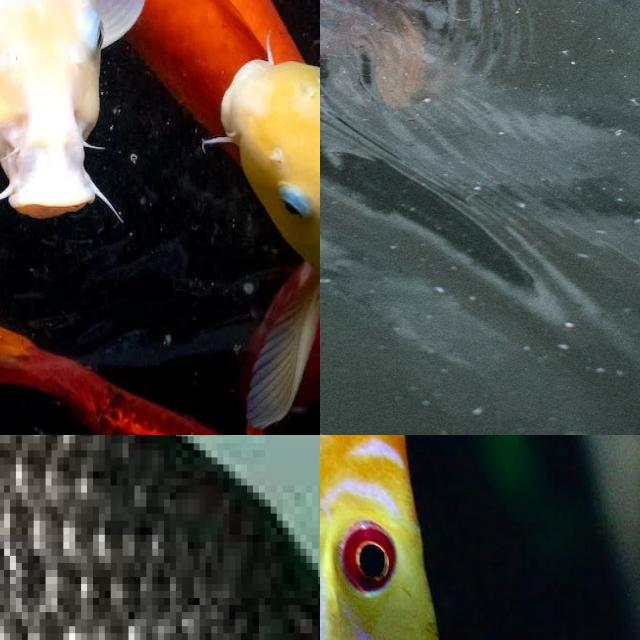fish: (0, 0, 320, 435), (320, 0, 640, 210), (320, 435, 640, 640)
